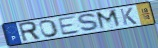E: (57, 15, 82, 36)
K: (119, 7, 139, 26)
M: (95, 8, 123, 31)
O: (38, 19, 60, 39)
R: (17, 21, 43, 43)
S: (76, 13, 102, 32)
